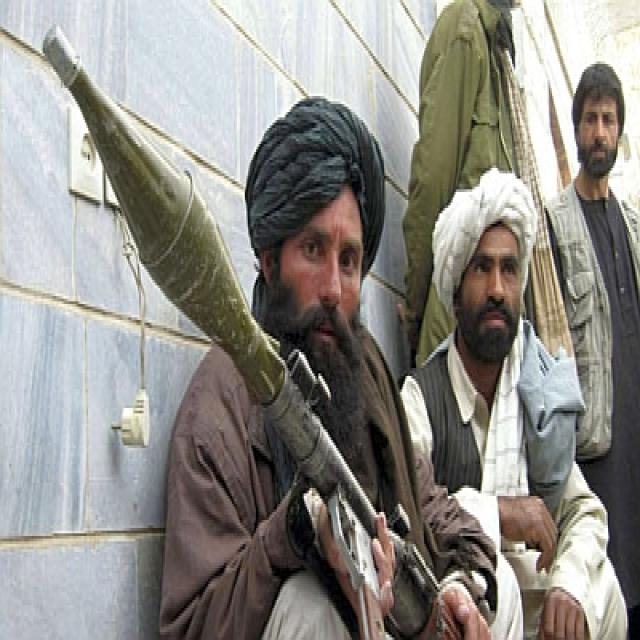bazooka: (30, 6, 487, 640)
